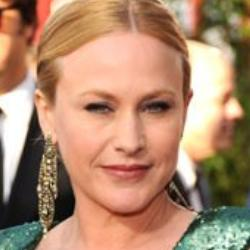face: (15, 1, 190, 218)
